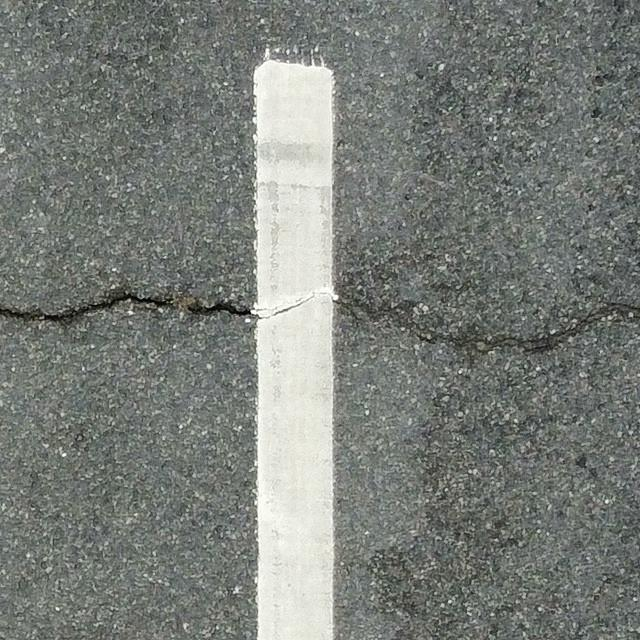TransverseCrack: (1, 287, 640, 356)
